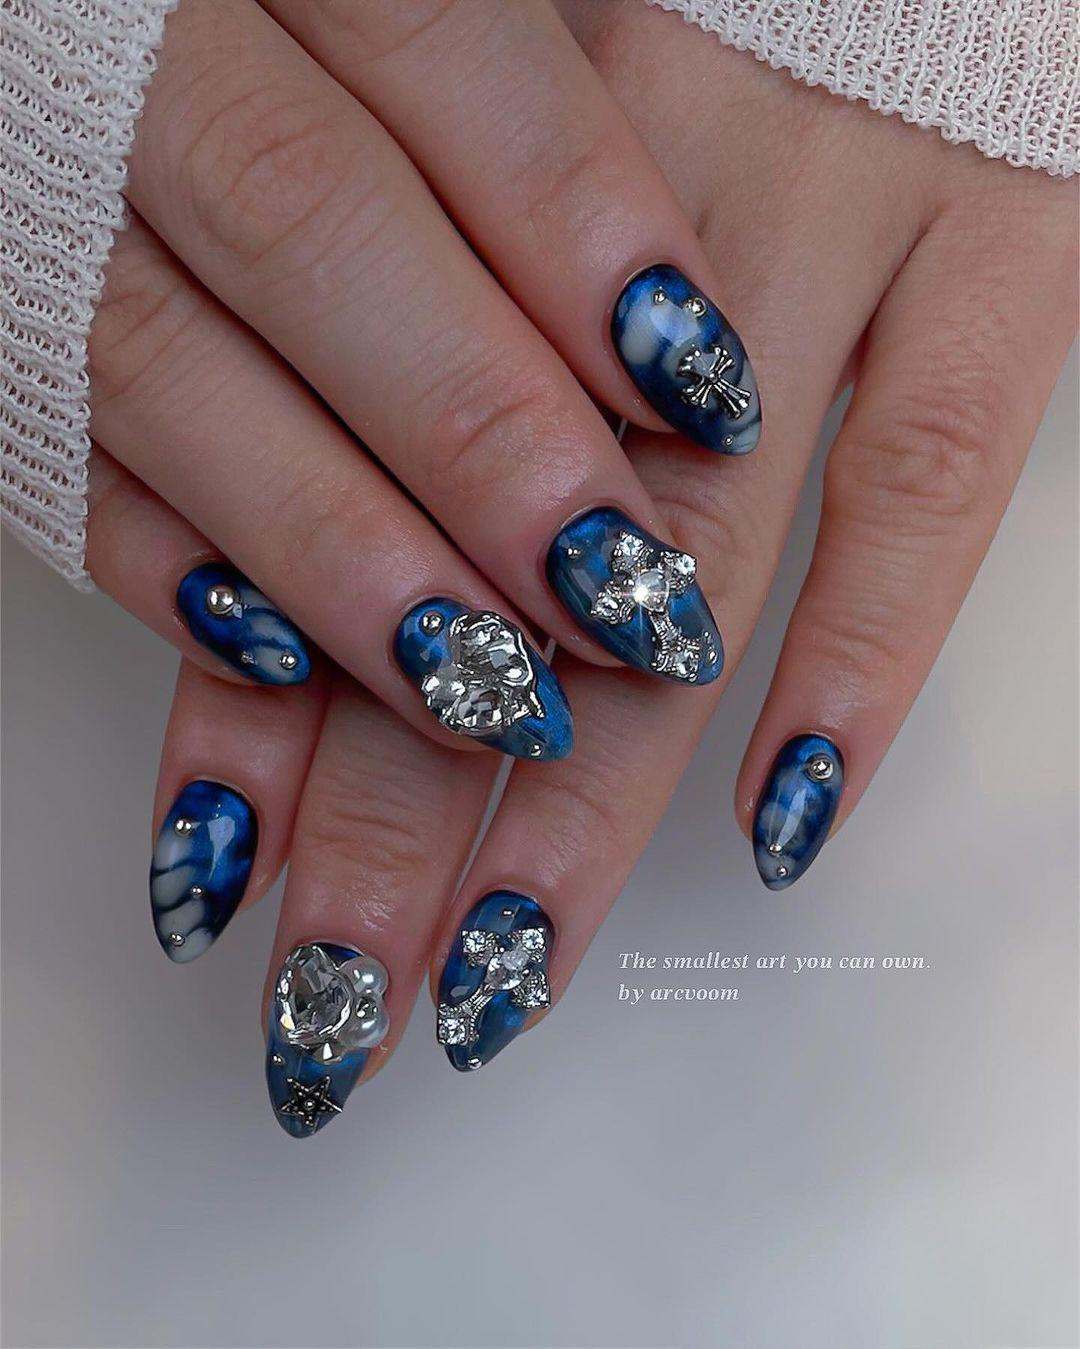nail: (541, 500, 726, 686), (391, 594, 575, 762), (606, 260, 763, 456), (263, 938, 391, 1138), (433, 886, 557, 1072), (147, 776, 259, 964), (172, 555, 312, 687), (750, 729, 845, 891)
